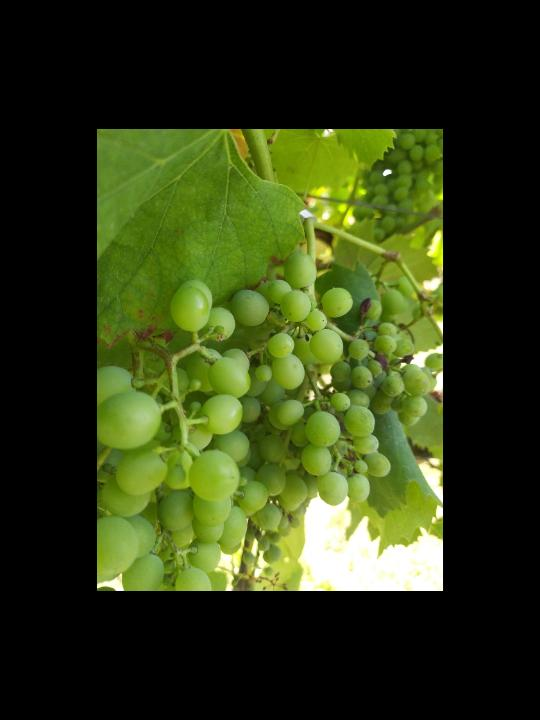grape: (99, 281, 269, 590), (276, 254, 437, 504)
